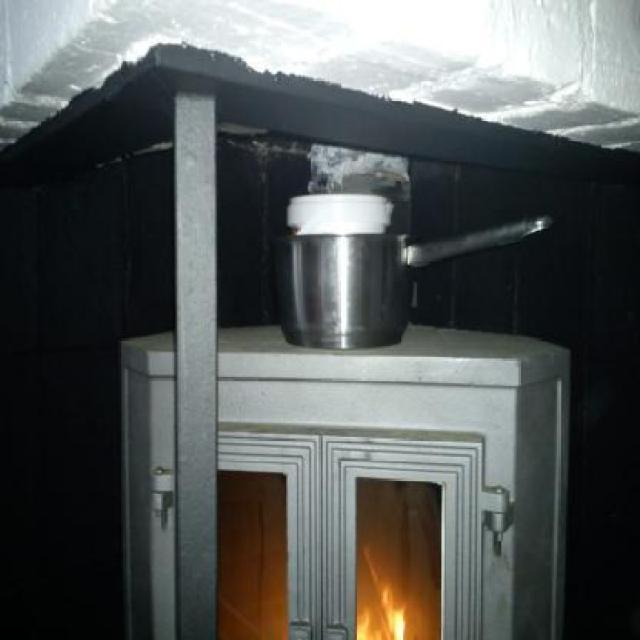Fire: (354, 590, 408, 638)
